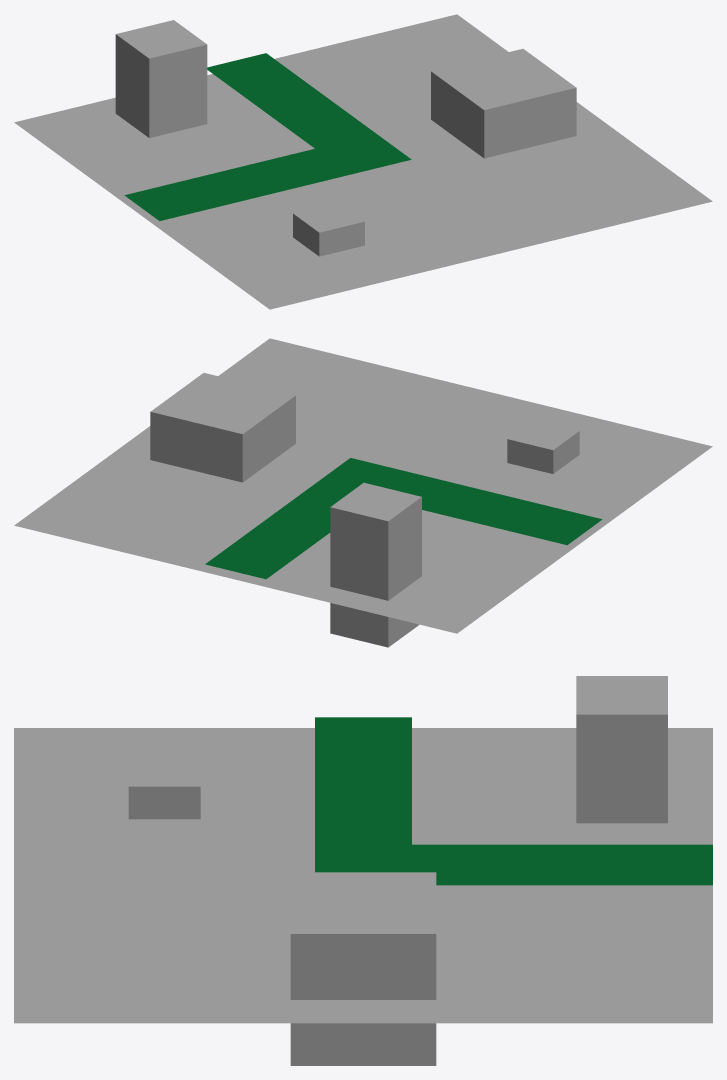
File: street_corner_002.fbx
3 renders of one model, top to bottom at view 1: azimuth 30°, elevation 25°; view 2: azimuth 150°, elevation 25°; view 3: azimuth 270°, elevation 25°, orthographic. The views are drawn at different scales.
Parts seen in each view (by area): view 1: pPlane28, pCube11, pCube12, pPlane29, pPlane30, pCube10; view 2: pPlane28, pCube11, pCube12, pPlane29, pPlane30, pCube10; view 3: pPlane28, pCube11, pPlane29, pCube12, pPlane30, pCube10.
Boxes of the visible parts, x1,y1,x2,y2 form: pPlane28: (14, 14, 712, 309); pCube11: (431, 49, 576, 158); pCube12: (115, 20, 207, 137); pPlane29: (207, 53, 411, 174); pPlane30: (124, 149, 349, 220); pCube10: (293, 202, 364, 256); pPlane28: (14, 338, 712, 633); pCube11: (150, 373, 295, 482); pCube12: (330, 482, 421, 647); pPlane29: (205, 458, 411, 579); pPlane30: (390, 473, 602, 545); pCube10: (507, 420, 579, 473); pPlane28: (14, 728, 712, 1023); pCube11: (290, 872, 436, 1065); pPlane29: (315, 844, 712, 885); pCube12: (576, 676, 667, 823); pPlane30: (315, 717, 411, 844); pCube10: (128, 756, 200, 819).
Size of the model in its own units: 1 by 0.2757 by 1.
